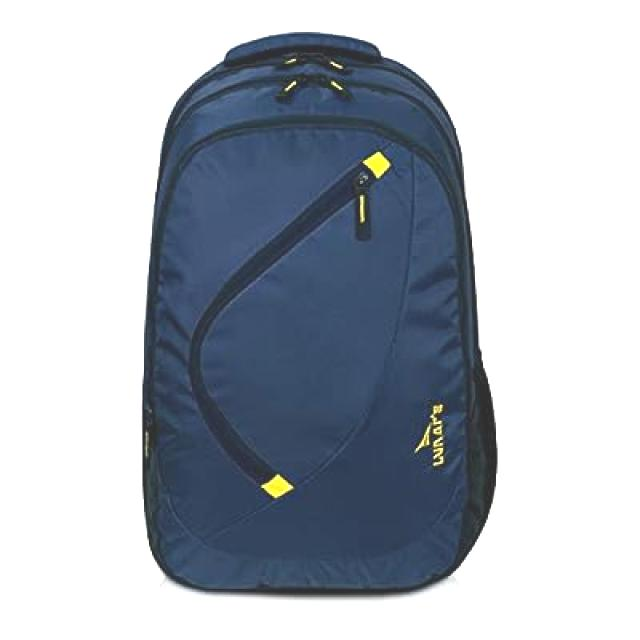backpack: (141, 32, 499, 595)
